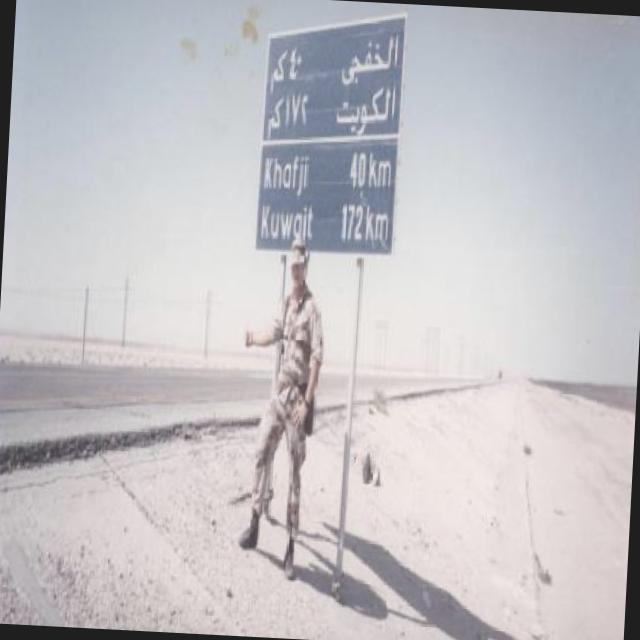Person: (242, 230, 326, 572)
